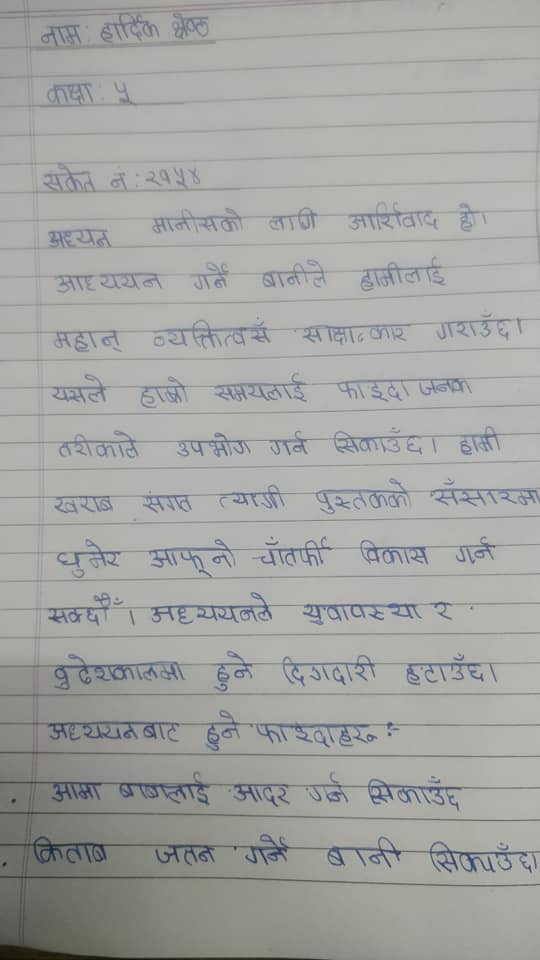text: (49, 652, 188, 693), (253, 714, 381, 750), (147, 591, 277, 626), (332, 371, 477, 402), (311, 476, 416, 517), (144, 536, 240, 579), (45, 716, 186, 745), (425, 840, 533, 877), (151, 315, 272, 348), (361, 775, 466, 812), (278, 650, 380, 688), (427, 476, 540, 509), (299, 600, 426, 628), (118, 769, 213, 806), (358, 255, 451, 292), (213, 371, 314, 405), (346, 200, 441, 236), (47, 267, 165, 295), (51, 426, 142, 462), (327, 427, 426, 459), (253, 533, 334, 572), (145, 204, 246, 235), (402, 652, 488, 688), (299, 319, 413, 346), (45, 591, 125, 627), (434, 308, 515, 343), (53, 538, 123, 577), (324, 836, 404, 870), (352, 536, 434, 569), (27, 836, 112, 867), (259, 255, 329, 292), (216, 481, 289, 514), (94, 11, 164, 45), (48, 370, 109, 408), (175, 431, 254, 460), (49, 326, 125, 354), (41, 225, 118, 252), (199, 708, 247, 750), (133, 375, 192, 408), (39, 160, 96, 193), (237, 832, 294, 865), (227, 781, 296, 808), (138, 486, 196, 518), (49, 491, 117, 518), (455, 421, 503, 459), (304, 771, 353, 808), (212, 650, 257, 690), (151, 842, 223, 867), (454, 533, 500, 571), (48, 777, 106, 805), (266, 205, 320, 234), (188, 260, 235, 293), (144, 163, 203, 188), (168, 9, 216, 39), (268, 428, 313, 460), (45, 77, 96, 105), (39, 20, 86, 46), (450, 200, 480, 233), (109, 77, 139, 105), (105, 162, 131, 190), (432, 598, 458, 626)
